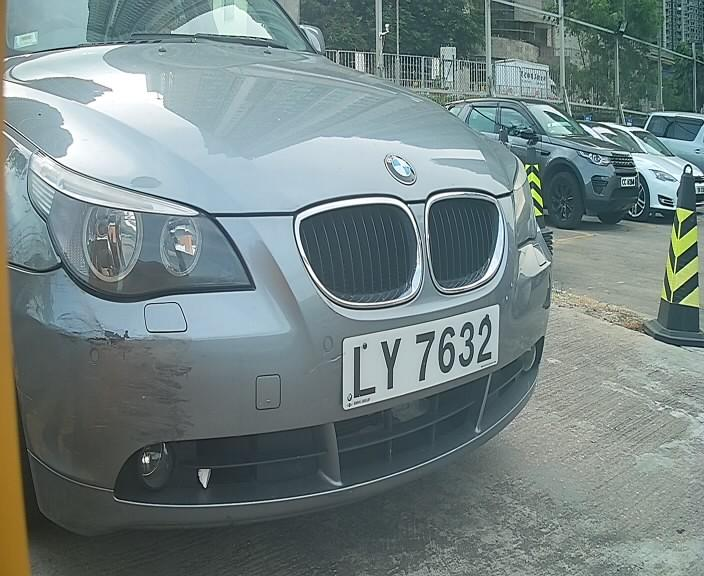Car: (10, 11, 601, 543)
License Plate: (337, 294, 510, 415)
